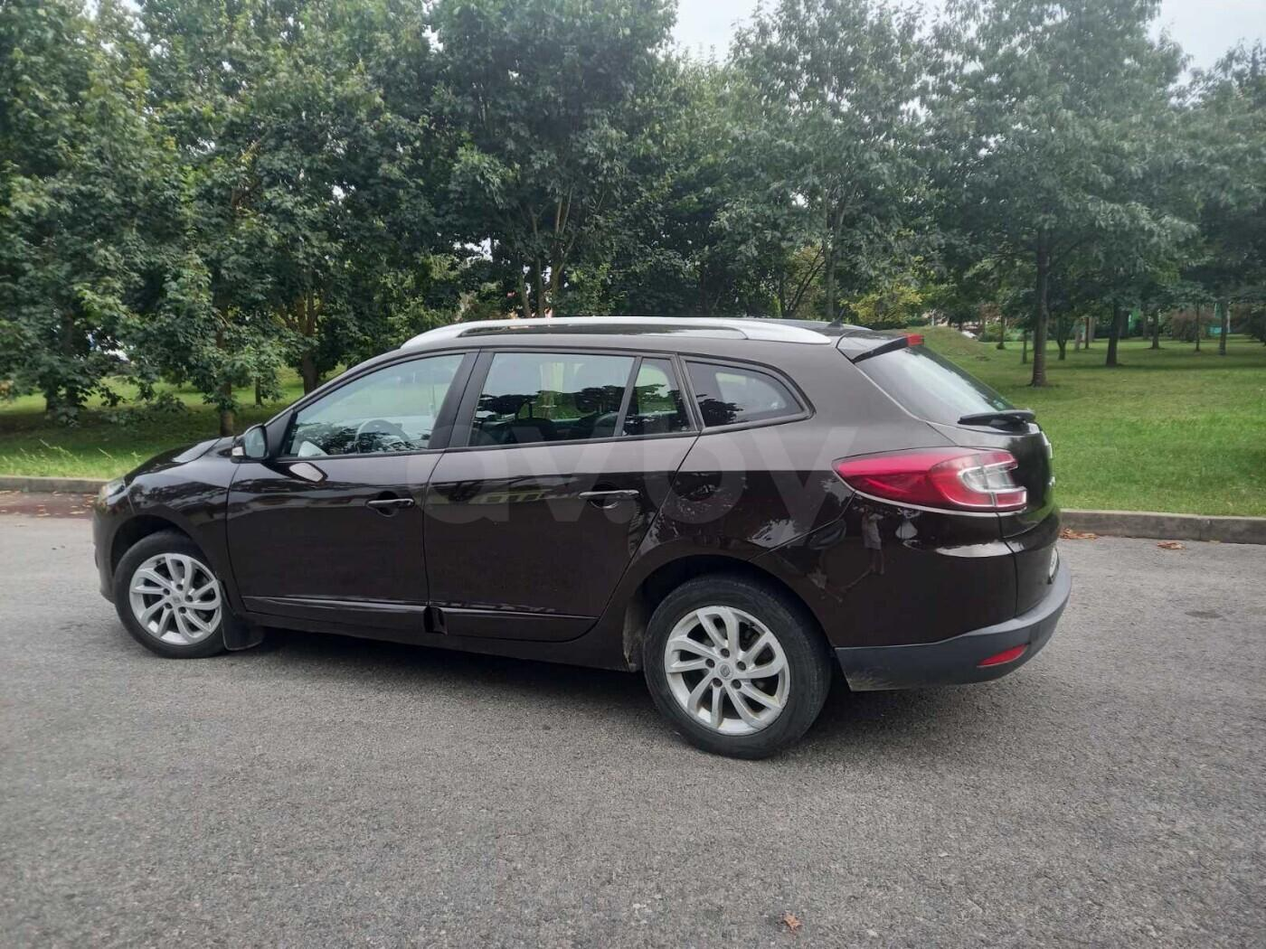Megane_2014-2016: (93, 316, 1076, 760)
